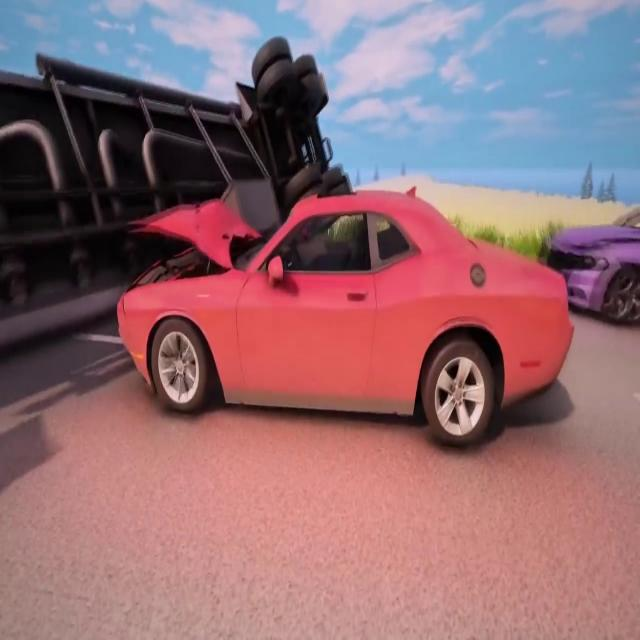accident: (0, 35, 580, 446)
